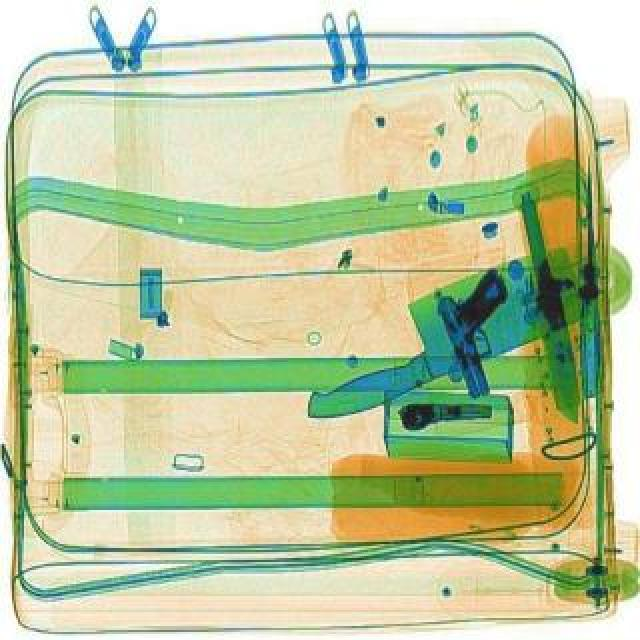gun: (436, 264, 528, 396), (392, 382, 488, 438)
knife: (278, 238, 596, 428), (514, 190, 582, 424)
